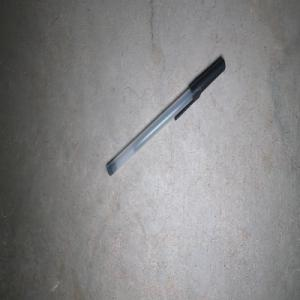Pen: (107, 57, 225, 175)
